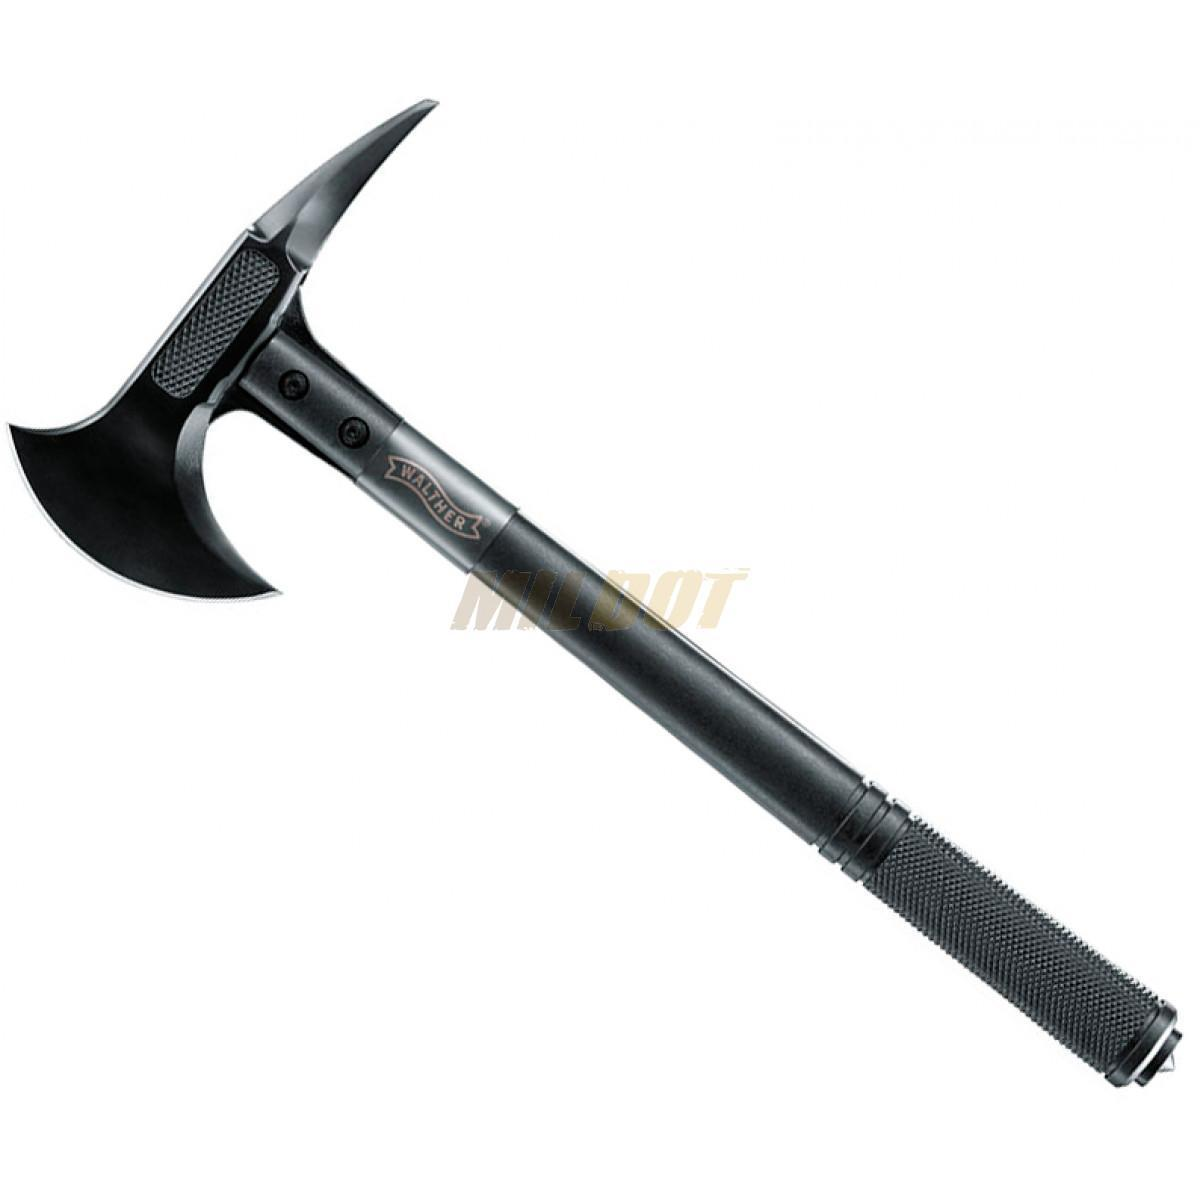machado: (12, 101, 1178, 1085)
